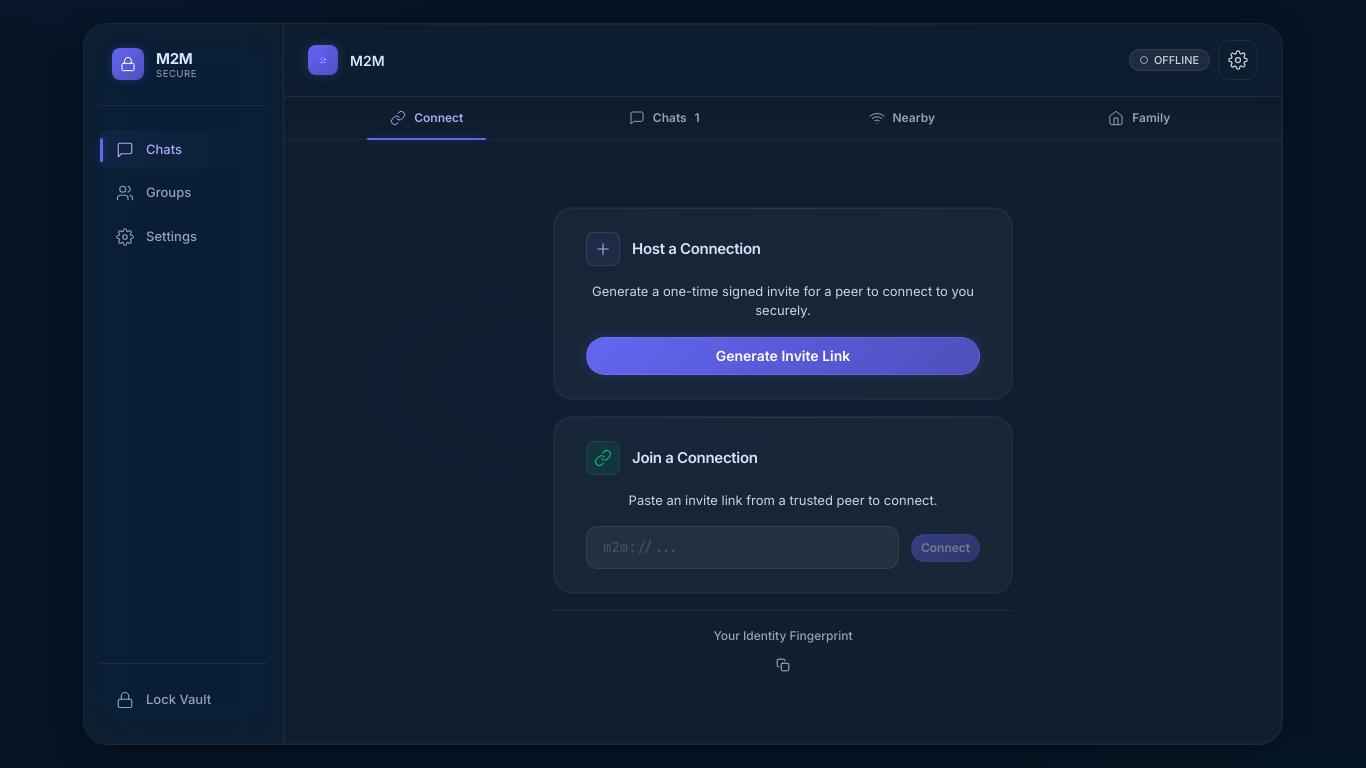
HubView › shows chats tab with conversation list
Click the tab "Chats 1": click(664, 118) [546,97,783,139]
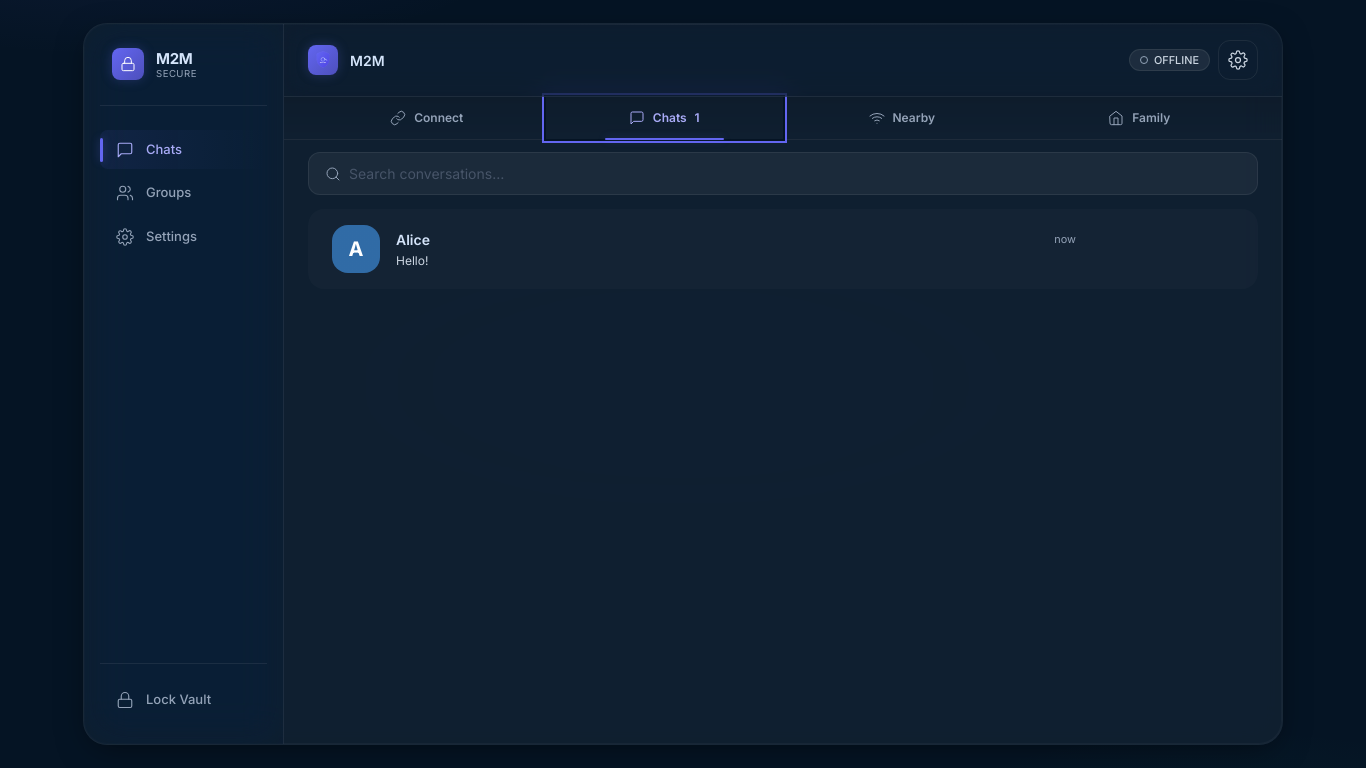
Expected: the text "Alice" is shown, [396,228,430,250]
